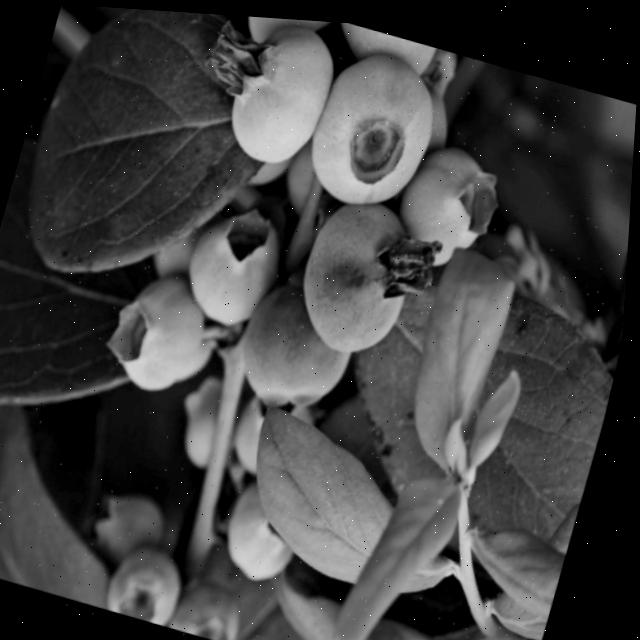Semi-RipeBlueBerry: (287, 187, 439, 368)
UnripeBlueBerry: (301, 37, 453, 223), (215, 12, 347, 182), (102, 272, 218, 408)
